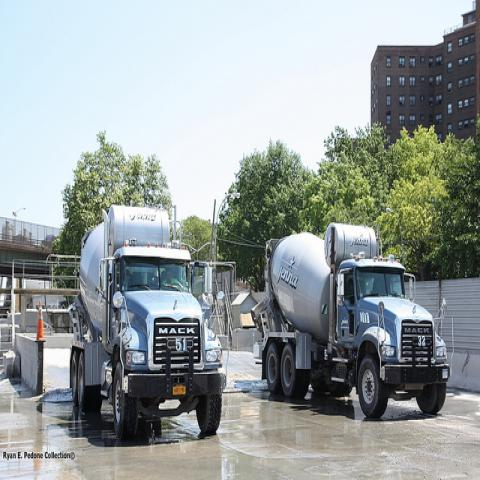truck: (252, 223, 456, 420), (67, 204, 226, 440)
